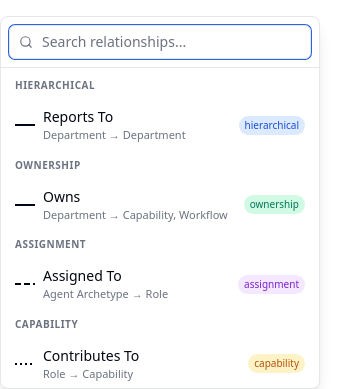
RelationshipPalette › should filter by source type name
This screenshot has width=337, height=389.
(page scrolled)
Step 1. Type "policy" into the field with test id "rel-palette-search" → (160, 42), box [9,25,311,59]
(page scrolled)
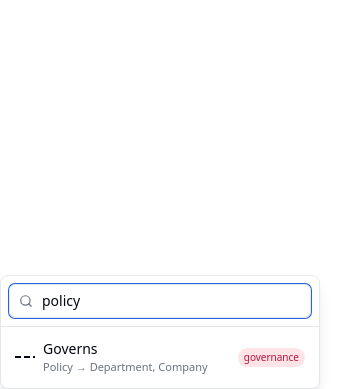
Expected: the button with test id "rel-palette-item-governs" is shown, [5,331,315,384]
